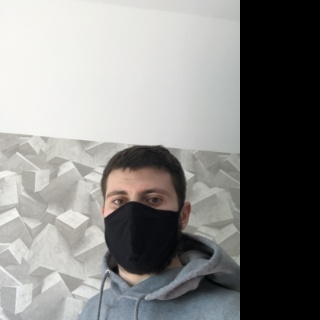with_mask: (104, 179, 181, 276)
